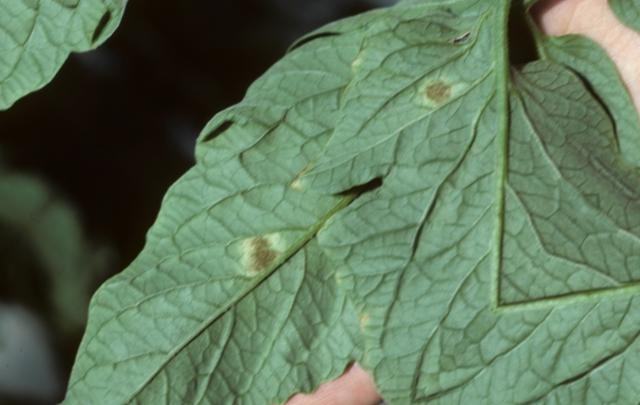Tomato mold leaf: (3, 0, 604, 405), (169, 0, 640, 405)
